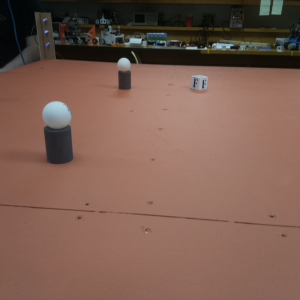blockF: (191, 72, 208, 93)
corner: (36, 11, 57, 60)
obstacle: (41, 99, 75, 164), (116, 56, 134, 90)
